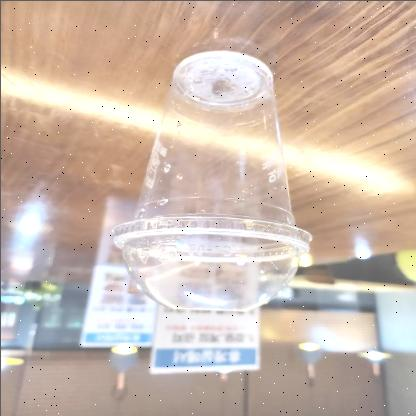Others: (112, 47, 308, 312)
